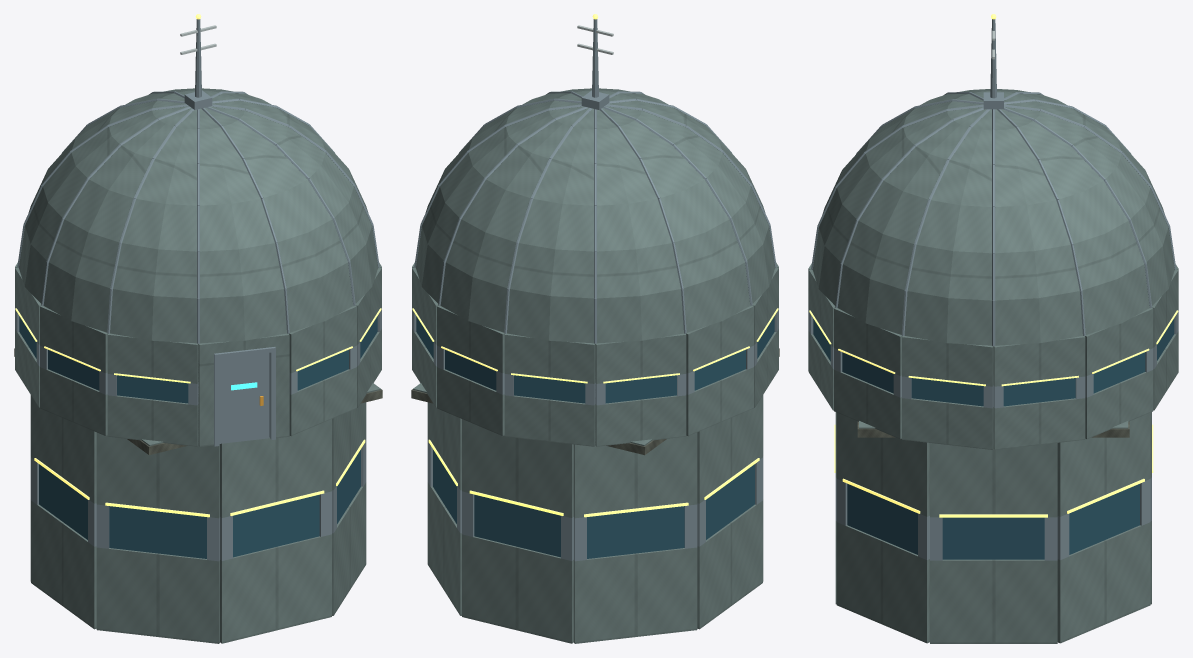
File: Observatory_11p5m.glb
3 renders of one model, left to right at view 1: azimuth 30°, elevation 25°; view 2: azimuth 150°, elevation 25°; view 3: azimuth 270°, elevation 25°, orthographic.
Parts seen in each view (by area): view 1: Hab_Wall_Window_2m.067, Hab_Wall_Window_2m.068, Hab_Dome_Sector_30deg.021, Hab_Dome_Sector_30deg.020, Hab_Wall_Window_2m.066, Hab_Dome_Sector_30deg.022, Hab_Dome_Sector_30deg.019, Hab_Wall_Window_2m.077, Hab_Wall_Window_2m.076, Hab_Wall_Window_2m.078, Hab_Dome_Sector_30deg.023, Hab_Dome_Sector_30deg.018 (+9 smaller); view 2: Hab_Wall_Window_2m.065, Hab_Wall_Window_2m.064, Hab_Dome_Sector_30deg.017, Hab_Dome_Sector_30deg.016, Hab_Wall_Window_2m.066, Hab_Dome_Sector_30deg.018, Hab_Dome_Sector_30deg.015, Hab_Wall_Window_2m.073, Hab_Wall_Window_2m.074, Hab_Wall_Window_2m.072, Hab_Wall_Window_2m.075, Hab_Dome_Sector_30deg.019 (+8 smaller); view 3: Hab_Wall_Window_2m.062, Hab_Wall_Window_2m.063, Hab_Wall_Window_2m.069, Hab_Dome_Sector_30deg.013, Hab_Dome_Sector_30deg.024, Hab_Dome_Sector_30deg.014, Hab_Dome_Sector_30deg.023, Hab_Wall_Window_2m.070, Hab_Wall_Window_2m.080, Hab_Wall_Window_2m.071, Hab_Wall_Window_2m.079, Hab_Dome_Sector_30deg.015 (+7 smaller).
Boxes of the visible parts, <box> form: Hab_Wall_Window_2m.067: <box>96,432,219,643</box>; Hab_Wall_Window_2m.068: <box>220,419,331,643</box>; Hab_Dome_Sector_30deg.021: <box>197,108,286,343</box>; Hab_Dome_Sector_30deg.020: <box>107,108,196,343</box>; Hab_Wall_Window_2m.066: <box>31,395,96,629</box>; Hab_Dome_Sector_30deg.022: <box>201,107,353,333</box>; Hab_Dome_Sector_30deg.019: <box>41,106,191,332</box>; Hab_Wall_Window_2m.077: <box>107,333,198,446</box>; Hab_Wall_Window_2m.076: <box>40,306,107,435</box>; Hab_Wall_Window_2m.078: <box>289,306,356,435</box>; Hab_Dome_Sector_30deg.023: <box>205,106,377,305</box>; Hab_Dome_Sector_30deg.018: <box>17,104,188,303</box>; Hab_Wall_Window_2m.065: <box>574,432,697,643</box>; Hab_Wall_Window_2m.064: <box>462,419,573,643</box>; Hab_Dome_Sector_30deg.017: <box>594,109,683,343</box>; Hab_Dome_Sector_30deg.016: <box>504,108,593,343</box>; Hab_Wall_Window_2m.066: <box>697,395,762,629</box>; Hab_Dome_Sector_30deg.018: <box>600,108,750,333</box>; Hab_Dome_Sector_30deg.015: <box>438,107,589,332</box>; Hab_Wall_Window_2m.073: <box>504,333,595,446</box>; Hab_Wall_Window_2m.074: <box>595,333,686,446</box>; Hab_Wall_Window_2m.072: <box>437,306,504,435</box>; Hab_Wall_Window_2m.075: <box>686,306,753,435</box>; Hab_Dome_Sector_30deg.019: <box>602,106,774,305</box>; Hab_Wall_Window_2m.062: <box>930,443,1057,643</box>; Hab_Wall_Window_2m.063: <box>1057,412,1150,643</box>; Hab_Wall_Window_2m.069: <box>836,412,929,643</box>; Hab_Dome_Sector_30deg.013: <box>992,109,1082,346</box>; Hab_Dome_Sector_30deg.024: <box>901,109,991,345</box>; Hab_Dome_Sector_30deg.014: <box>997,109,1149,335</box>; Hab_Dome_Sector_30deg.023: <box>835,107,986,334</box>; Hab_Wall_Window_2m.070: <box>993,336,1085,449</box>; Hab_Wall_Window_2m.080: <box>902,336,993,449</box>; Hab_Wall_Window_2m.071: <box>1085,308,1153,439</box>; Hab_Wall_Window_2m.079: <box>834,308,902,439</box>; Hab_Dome_Sector_30deg.015: <box>1003,107,1174,307</box>.
Size of the model in its own units: 8.17 by 13.72 by 8.18.
8 materials, 2 textured.
